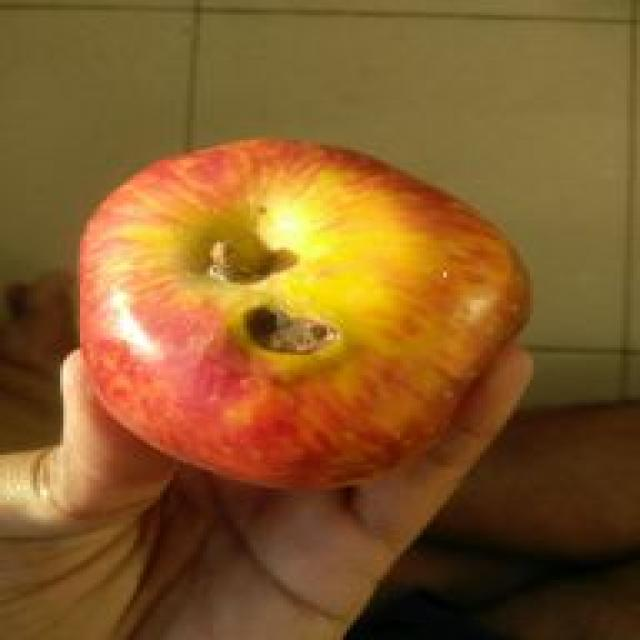Bad_Apple: (80, 140, 527, 487)
